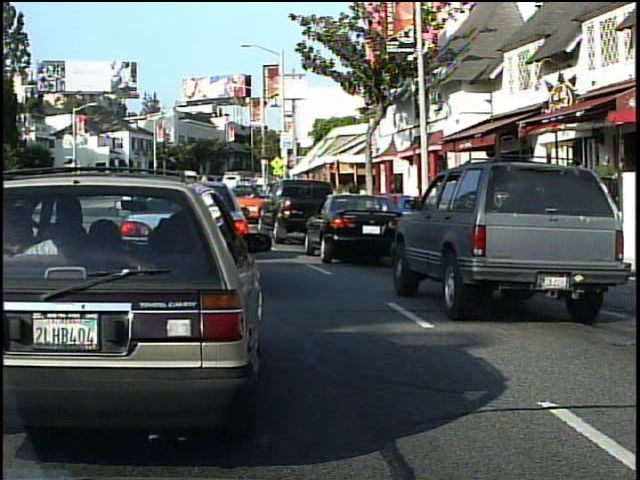person: (588, 150, 622, 236)
